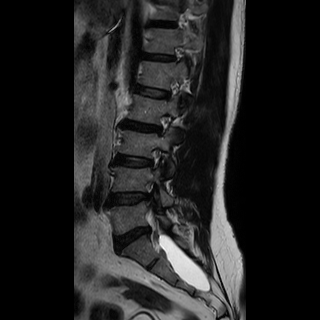RFS0: (148, 109, 176, 141), (142, 142, 166, 178)
